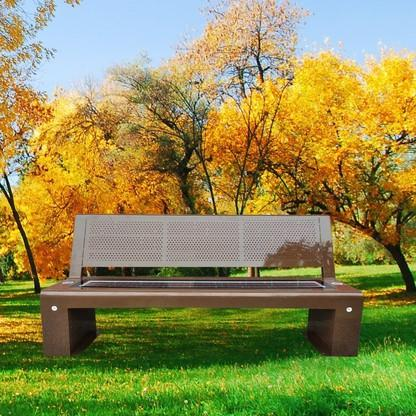obstacle: (29, 207, 377, 375)
